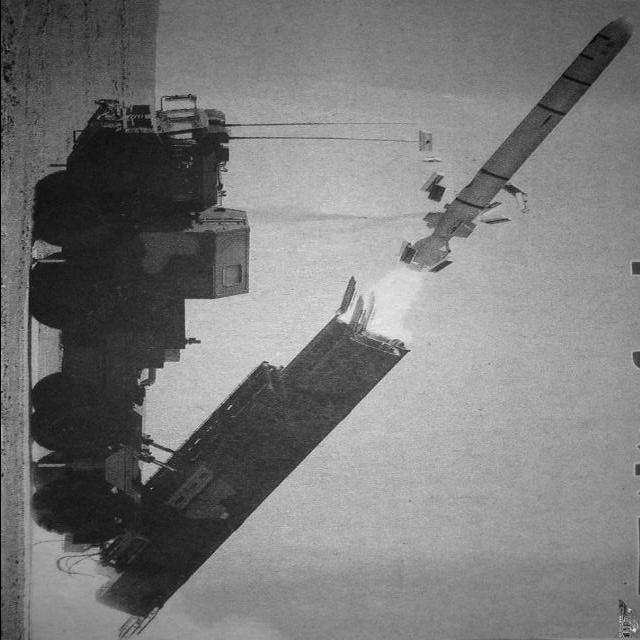missile: (396, 0, 640, 280)
